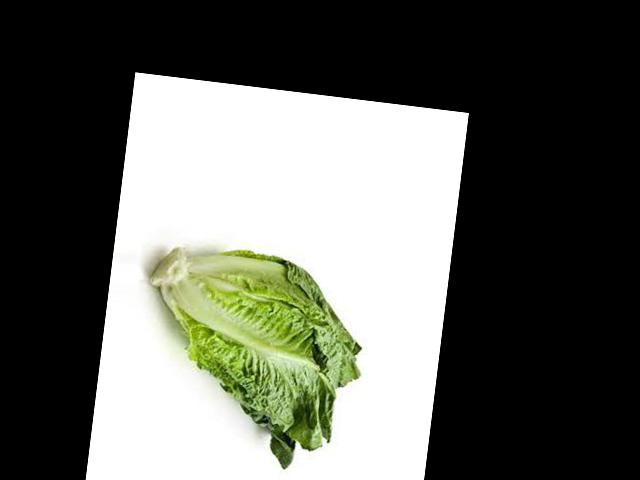lettuce: (197, 158, 382, 244)
